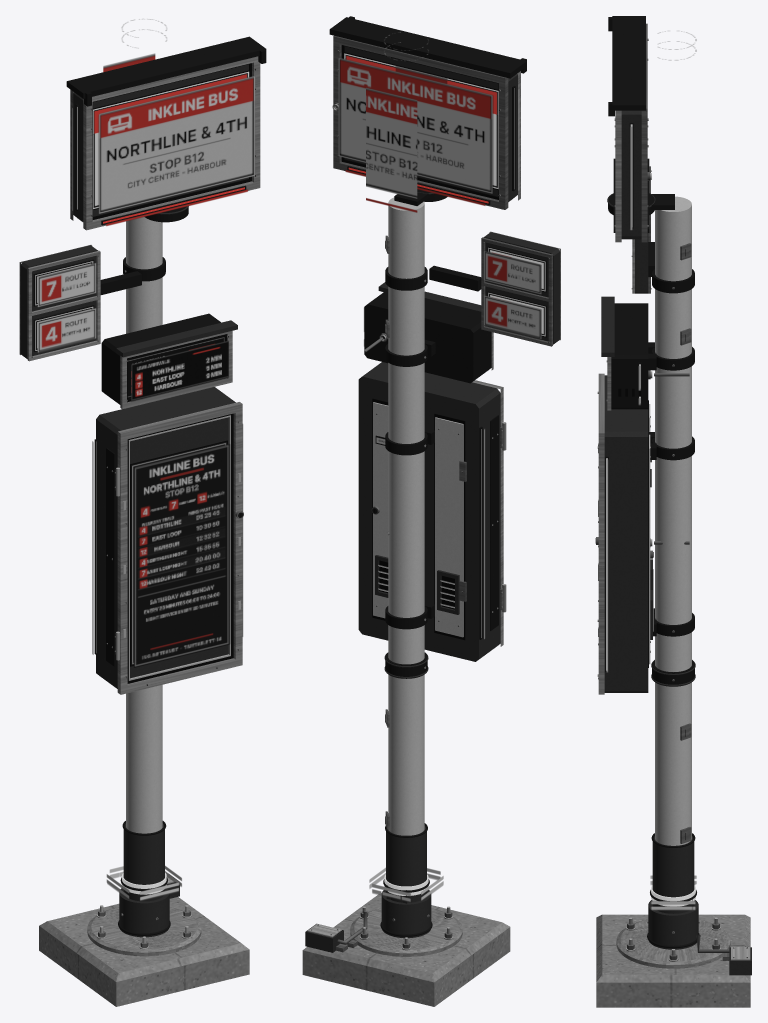
Rendered from busstop-D8AmuMPH.glb.
The picture shows the model from 3 angles, left to right: view 1: azimuth 30°, elevation 25°; view 2: azimuth 150°, elevation 25°; view 3: azimuth 270°, elevation 25°; orthographic projection.
Visible parts, largest first — view 1: body, farBaked, glow; view 2: body, farBaked, glow; view 3: body, farBaked, glow.
Part boxes in pixels (x1,y1,x2,y2): body: [19, 36, 266, 1006]; farBaked: [37, 19, 255, 901]; glow: [35, 71, 249, 894]; body: [302, 16, 560, 1006]; farBaked: [338, 32, 541, 902]; glow: [344, 53, 545, 895]; body: [595, 16, 751, 1007]; farBaked: [606, 30, 696, 910]; glow: [606, 124, 695, 906].
Bounding box in the file's own units: 0.795 × 3.08 × 0.48.
3 materials, 3 textured.
